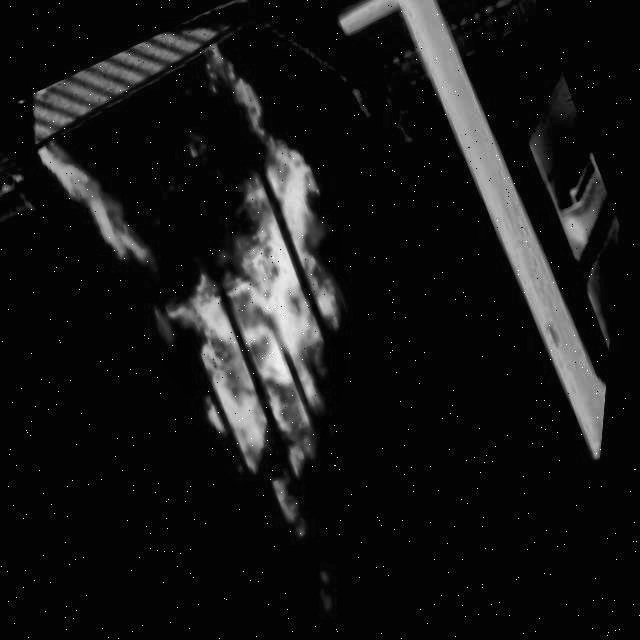Fire: (0, 25, 466, 611)
